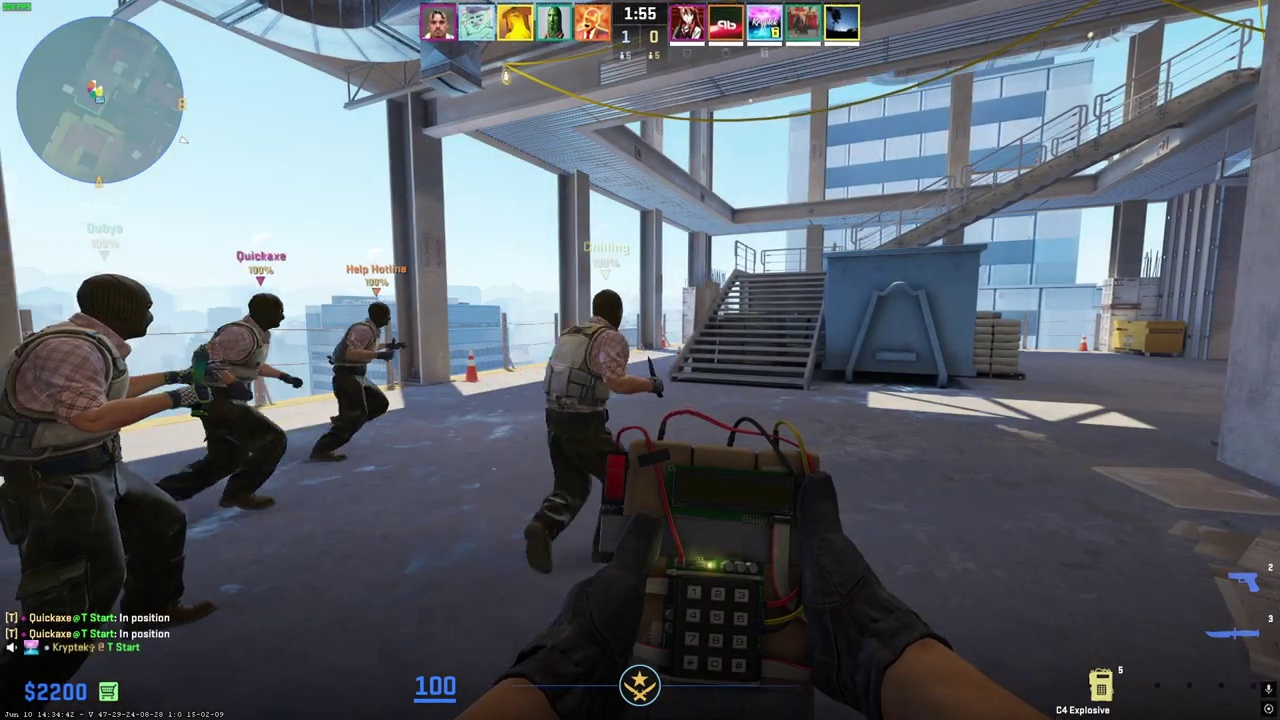Terrorist: (0, 273, 158, 716), (525, 289, 635, 574), (169, 294, 298, 513), (317, 299, 397, 466)
